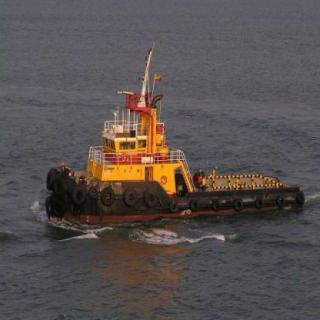Tug Boat: (33, 29, 286, 222)
